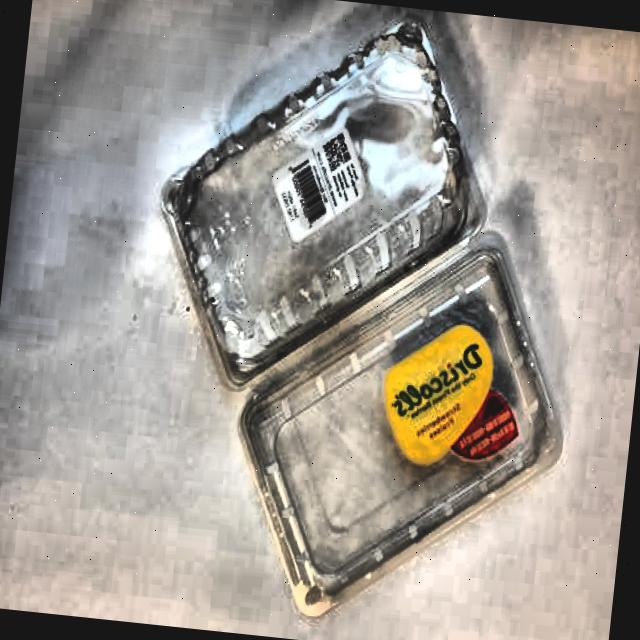plastic: (128, 0, 603, 636)
